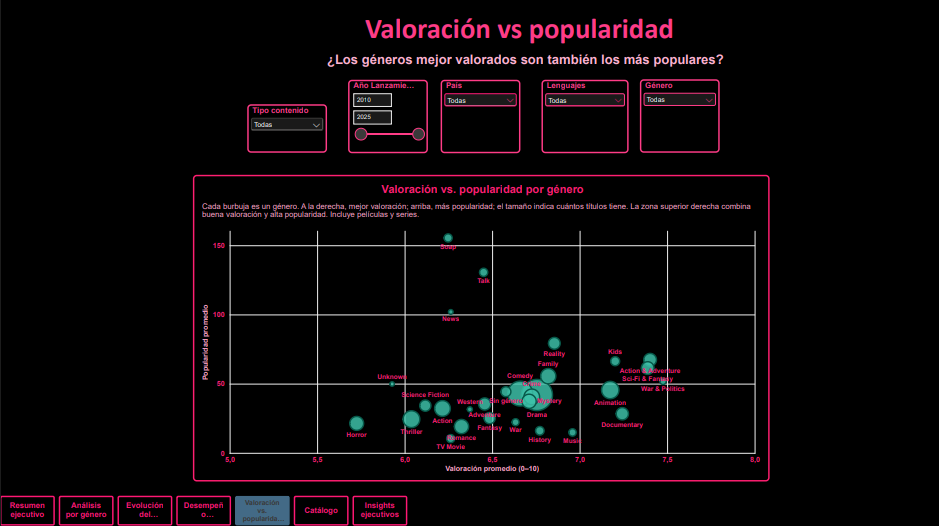

What the dashboard file says about the page in this screenshot:
{"tool":"powerbi","page":{"name":"Valoración vs. popularidad por género","canvas":[1920,1080],"ordinal":5},"visuals":[{"type":"textbox","box":[740.2,27.1,642.4,85.1],"z":0},{"type":"textbox","box":[667.8,112.2,821.6,47.1],"z":1},{"type":"slicer","fields":{"Values":["catalogo.content_type"]},"box":[481.8,286.5,162.7,99.2],"z":2},{"type":"slicer","fields":{"Values":["catalogo.release_year"]},"box":[687.9,235.5,163,150],"z":3},{"type":"slicer","fields":{"Values":["catalogo.pais_principal"]},"box":[876.9,235.5,163,150],"z":4},{"type":"slicer","fields":{"Values":["catalogo.language"]},"box":[1083,235.5,178,150],"z":5},{"type":"slicer","fields":{"Values":["catalogo.genero"]},"box":[1283.7,234.8,163,150],"z":6},{"type":"scatterChart","title":"Valoración vs. popularidad por género","fields":{"Category":["catalogo.genero"],"Size":["catalogo.Contenidos"],"X":["catalogo.Valoración por género"],"Y":["catalogo.Popularidad por género"]},"box":[370.4,429.6,1177.8,625.9],"z":7},{"type":"actionButton","box":[1801.9,1.9,100,40],"z":8},{"type":"actionButton","box":[0,0,100,40],"z":9}]}

Visuals, with their boxes on the page's 1920x1080 design canvas (x1, y1, x2, y2). These are canvas units, not pixel positions in the 939x526 screenshot, which may show the page scaled, cropped or inside an application window:
textbox: rect(740, 27, 1383, 112)
textbox: rect(668, 112, 1489, 159)
slicer - catalogo.content_type: rect(482, 286, 644, 386)
slicer - catalogo.release_year: rect(688, 236, 851, 386)
slicer - catalogo.pais_principal: rect(877, 236, 1040, 386)
slicer - catalogo.language: rect(1083, 236, 1261, 386)
slicer - catalogo.genero: rect(1284, 235, 1447, 385)
"Valoración vs. popularidad por género" scatterChart: rect(370, 430, 1548, 1056)
actionButton: rect(1802, 2, 1902, 42)
actionButton: rect(0, 0, 100, 40)
